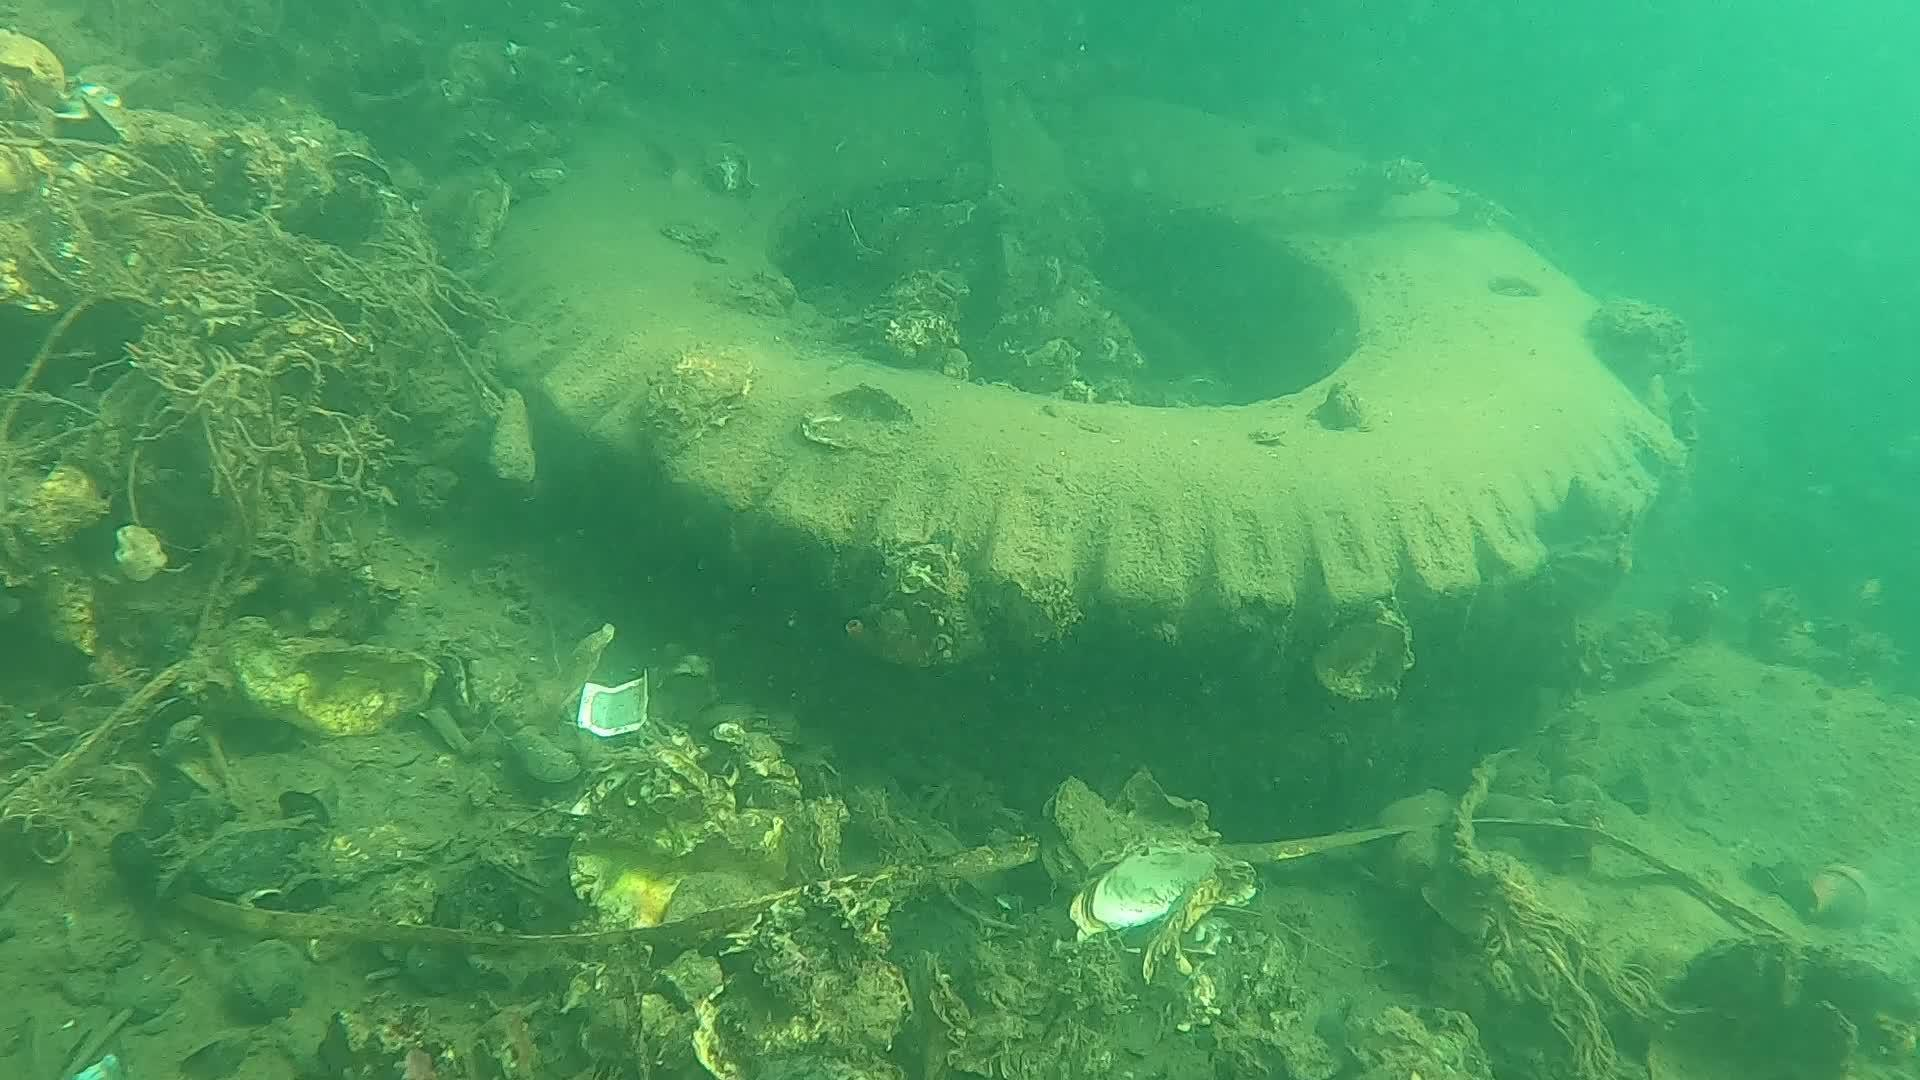tire: (476, 70, 1691, 764)
